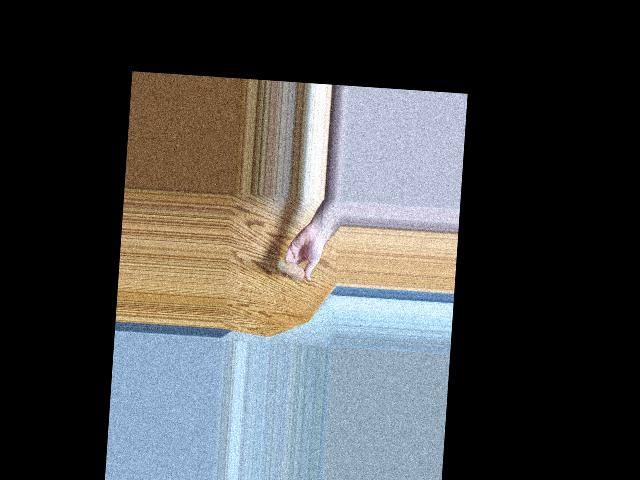sweet_potato: (276, 258, 308, 278)
